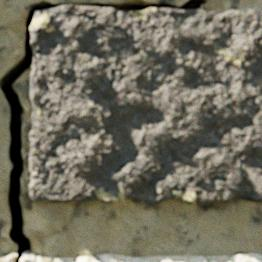brick: (28, 6, 261, 205)
broken_brick: (19, 253, 261, 261), (0, 252, 17, 261)
crack: (0, 0, 207, 261)
